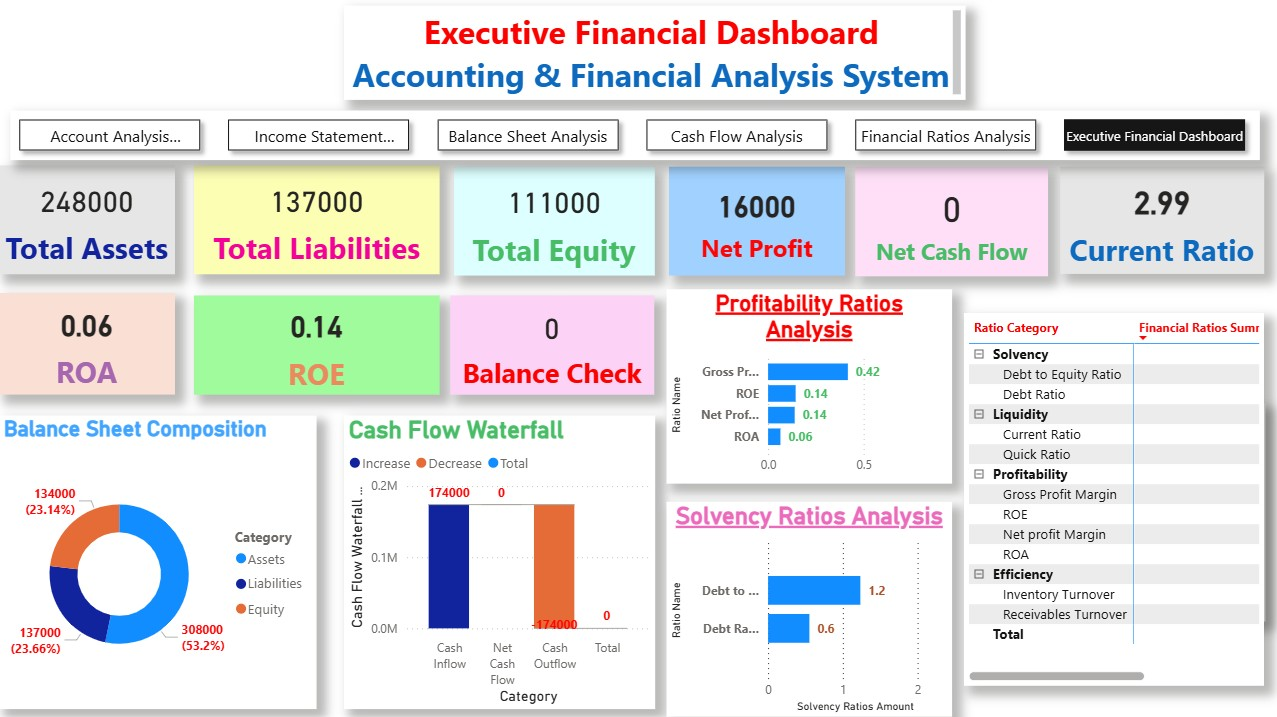

Layout of this report page (visuals, bound fields, positions):
{"tool":"powerbi","page":{"name":"Executive Financial Dashboard","canvas":[1280,720],"ordinal":5},"visuals":[{"type":"textbox","box":[344.6,8.1,622,94.2],"z":0},{"type":"card","fields":{"Values":["Financial Measures.Total Assets"]},"box":[0,167.4,176.1,108.8],"z":1000},{"type":"card","fields":{"Values":["Financial Measures.Total Liabilities"]},"box":[194.4,167.4,245.8,108.8],"z":2000},{"type":"card","fields":{"Values":["Financial Measures.Total Equity"]},"box":[454.9,168.6,200.5,108.8],"z":3000},{"type":"card","fields":{"Values":["Financial Measures.Net Profit"]},"box":[670.3,169.3,175.6,108.6],"z":4000},{"type":"card","fields":{"Values":["Financial Measures.Net Cash Flow"]},"box":[856.6,169.3,193,109.9],"z":5000},{"type":"card","fields":{"Values":["Financial Measures.Current Ratio"]},"box":[1061.8,169.3,203.8,107.2],"z":6000},{"type":"card","fields":{"Values":["Financial Measures.ROE"]},"box":[194.4,298,245.3,99.2],"z":7000},{"type":"card","fields":{"Values":["Financial Measures.ROA"]},"box":[0,295.3,175.6,101.9],"z":8000},{"type":"card","fields":{"Values":["Financial Measures.Balance Check"]},"box":[451.8,298,203.8,99.2],"z":9000},{"type":"waterfallChart","title":"Cash Flow Waterfall","fields":{"Category":["Cash Flow Layout.Category"],"Y":["Financial Measures.Cash Flow Waterfall Amount"]},"box":[344.5,416.9,311,293.6],"z":10000},{"type":"clusteredBarChart","title":"Profitability Ratios Analysis","fields":{"Category":["Profitability Ratios Layout.Ratio Name"],"Y":["Financial Measures.Profitability Ratios Amount"]},"box":[667.6,290.9,285.5,194.4],"z":11000},{"type":"clusteredBarChart","title":"Liquidity Ratios Analysis","fields":{"Category":["Liquidity Ratios Layout.Ratio Name"],"Y":["Financial Measures.Liquidity Ratios Amount"]},"box":[990.7,404.9,274.8,218.5],"z":12000},{"type":"clusteredBarChart","title":"Solvency Ratios Analysis","fields":{"Category":["Solvency Ratios Layout.Ratio Name"],"Y":["Financial Measures.Solvency Ratios Amount"]},"box":[667.6,504.1,285.5,215.8],"z":13000},{"type":"pivotTable","fields":{"Rows":["Financial Ratios Summary Layout.Ratio Category","Financial Ratios Summary Layout.Ratio Name"],"Values":["Financial Measures.Financial Ratios Summary Amount"]},"box":[965.2,315,300.3,372.7],"z":14000},{"type":"donutChart","title":"Balance Sheet Composition","fields":{"Category":["Financial Position Data.Category"],"Y":["Sum(Financial Position Data.Ammount)"]},"box":[0,416.9,317.7,293.6],"z":15000},{"type":"pageNavigator","box":[10.7,112.6,1249.4,49.6],"z":16000}]}

Visuals, with their boxes in screenshot pixels (x1, y1, x2, y2), scaled from the page's 1280x720 canvas onto the 1277x717 screenshot:
textbox: 344 8 964 102
card - Financial Measures.Total Assets: 0 167 176 275
card - Financial Measures.Total Liabilities: 194 167 439 275
card - Financial Measures.Total Equity: 454 168 654 276
card - Financial Measures.Net Profit: 669 169 844 277
card - Financial Measures.Net Cash Flow: 855 169 1047 278
card - Financial Measures.Current Ratio: 1059 169 1263 275
card - Financial Measures.ROE: 194 297 439 396
card - Financial Measures.ROA: 0 294 175 396
card - Financial Measures.Balance Check: 451 297 654 396
"Cash Flow Waterfall" waterfallChart: 344 415 654 708
"Profitability Ratios Analysis" clusteredBarChart: 666 290 951 483
"Liquidity Ratios Analysis" clusteredBarChart: 988 403 1263 621
"Solvency Ratios Analysis" clusteredBarChart: 666 502 951 716
pivotTable - Financial Ratios Summary Layout.Ratio Category x Financial Ratios Summary Layout.Ratio Name: 963 314 1263 685
"Balance Sheet Composition" donutChart: 0 415 317 708
pageNavigator: 11 112 1257 162
